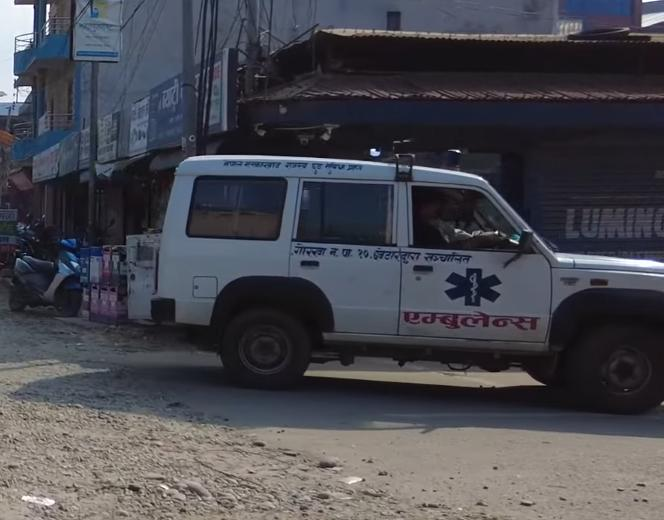ambulance: (151, 135, 664, 421)
scooter: (9, 233, 90, 322)
